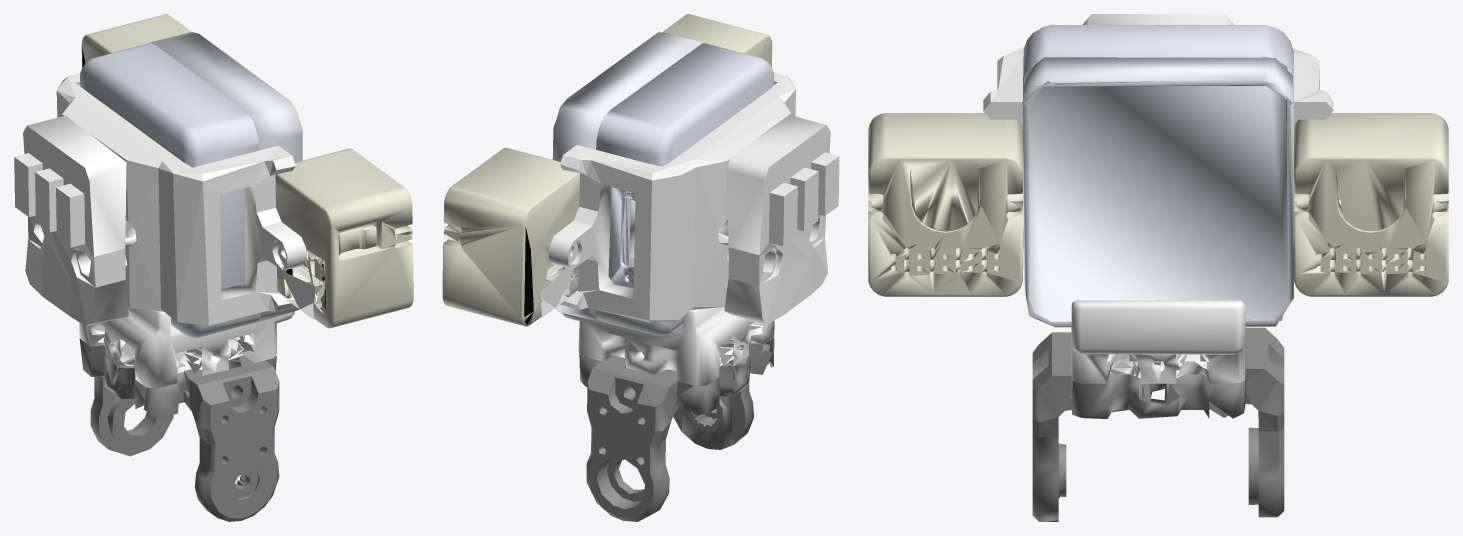
File: head_link1.dae
The picture shows the model from 3 angles, left to right: view 1: azimuth 30°, elevation 25°; view 2: azimuth 150°, elevation 25°; view 3: azimuth 270°, elevation 25°; orthographic projection. The views are drawn at different scales.
Visible parts, largest first — view 1: node10, node11, node14, node7, node0, node12, node4, node8, node9, node20, node13; view 2: node10, node11, node20, node7, node9, node12, node4, node8, node0, node14, node19, node24 (+1 smaller); view 3: node4, node14, node20, node12, node7, node9, node0, node8, node10, node11.
Boxes of the visible parts, left/top/right/bottom form: node10: left=56, top=73, right=306, bottom=325; node11: left=14, top=115, right=128, bottom=326; node14: left=275, top=148, right=413, bottom=328; node7: left=80, top=42, right=260, bottom=337; node0: left=184, top=356, right=279, bottom=521; node12: left=79, top=307, right=294, bottom=388; node4: left=150, top=32, right=302, bottom=324; node8: left=79, top=336, right=276, bottom=418; node9: left=90, top=376, right=173, bottom=456; node20: left=81, top=14, right=191, bottom=68; node13: left=283, top=253, right=324, bottom=313; node10: left=548, top=72, right=795, bottom=322; node11: left=724, top=115, right=839, bottom=324; node20: left=442, top=147, right=579, bottom=326; node7: left=593, top=43, right=773, bottom=336; node9: left=586, top=355, right=677, bottom=521; node12: left=562, top=306, right=774, bottom=386; node4: left=552, top=32, right=704, bottom=322; node8: left=579, top=337, right=774, bottom=415; node0: left=673, top=385, right=753, bottom=449; node14: left=662, top=14, right=772, bottom=67; node19: left=540, top=262, right=572, bottom=307; node24: left=524, top=227, right=533, bottom=324; node4: left=1022, top=56, right=1293, bottom=327; node14: left=868, top=113, right=1022, bottom=296; node20: left=1294, top=113, right=1448, bottom=296; node12: left=1071, top=300, right=1245, bottom=383; node7: left=1023, top=24, right=1293, bottom=250; node9: left=1245, top=327, right=1284, bottom=517; node0: left=1032, top=332, right=1072, bottom=521; node8: left=1072, top=369, right=1245, bottom=418; node10: left=983, top=47, right=1340, bottom=268; node11: left=1082, top=14, right=1233, bottom=24.
Bounding box in the file's own units: 0.0514 × 0.09 × 0.0802.
